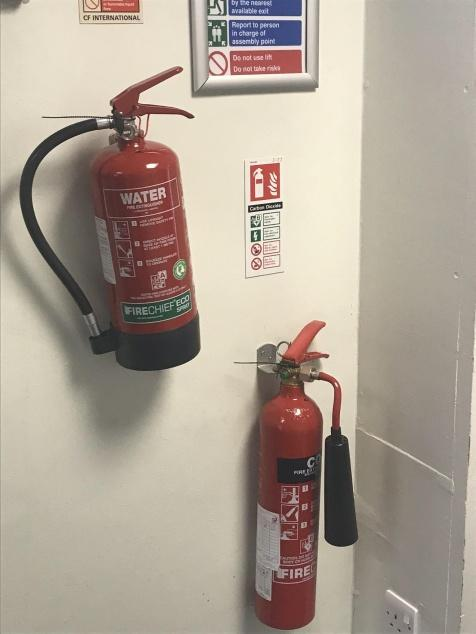APAR: (87, 64, 201, 371), (252, 318, 330, 632)
